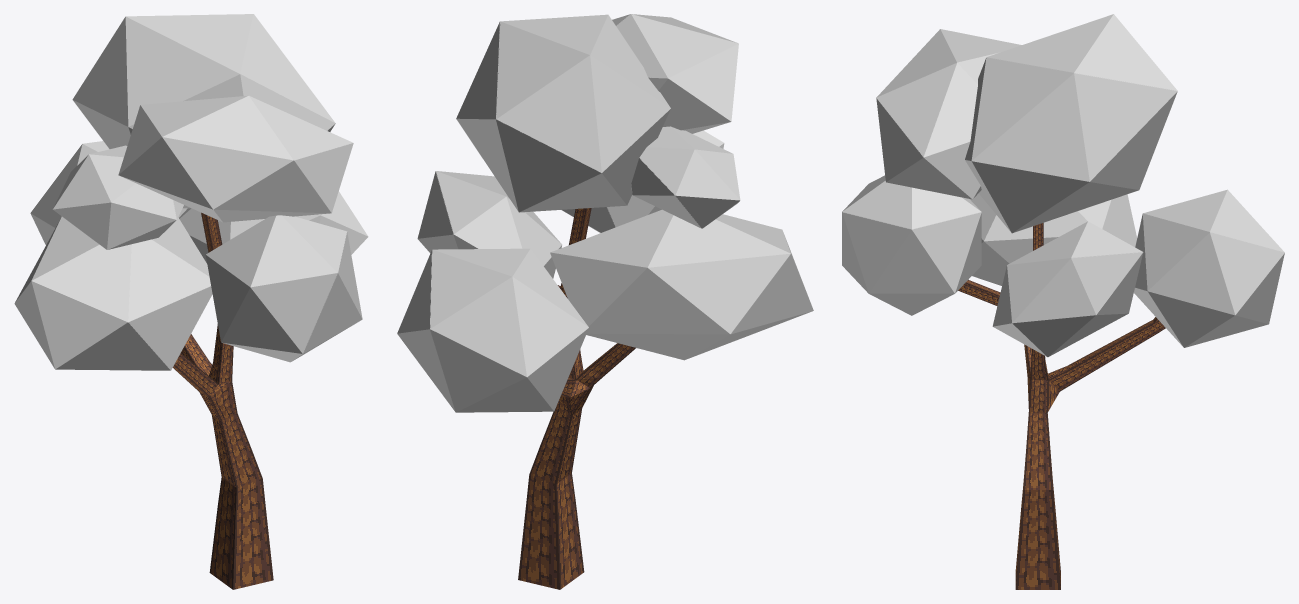
Rendered from oak_tree.gltf.
3 renders of one model, left to right at view 1: azimuth 30°, elevation 25°; view 2: azimuth 150°, elevation 25°; view 3: azimuth 270°, elevation 25°, orthographic. The views are drawn at different scales.
Parts seen in each view (by area): view 1: Leaves, Full, Trunk; view 2: Leaves, Full, Trunk; view 3: Full, Leaves, Trunk.
Part boxes in pixels (left/top/right/bottom): Leaves: left=14, top=14, right=367, bottom=370; Full: left=108, top=14, right=368, bottom=589; Trunk: left=173, top=212, right=273, bottom=589; Leaves: left=430, top=14, right=813, bottom=412; Full: left=397, top=14, right=701, bottom=589; Trunk: left=518, top=208, right=635, bottom=589; Full: left=842, top=57, right=1284, bottom=589; Leaves: left=842, top=14, right=1284, bottom=322; Trunk: left=966, top=280, right=1157, bottom=589.
Bounding box in the file's own units: 3.94 × 6.2 × 4.69.
Materials: 2 (1 with a texture image).
